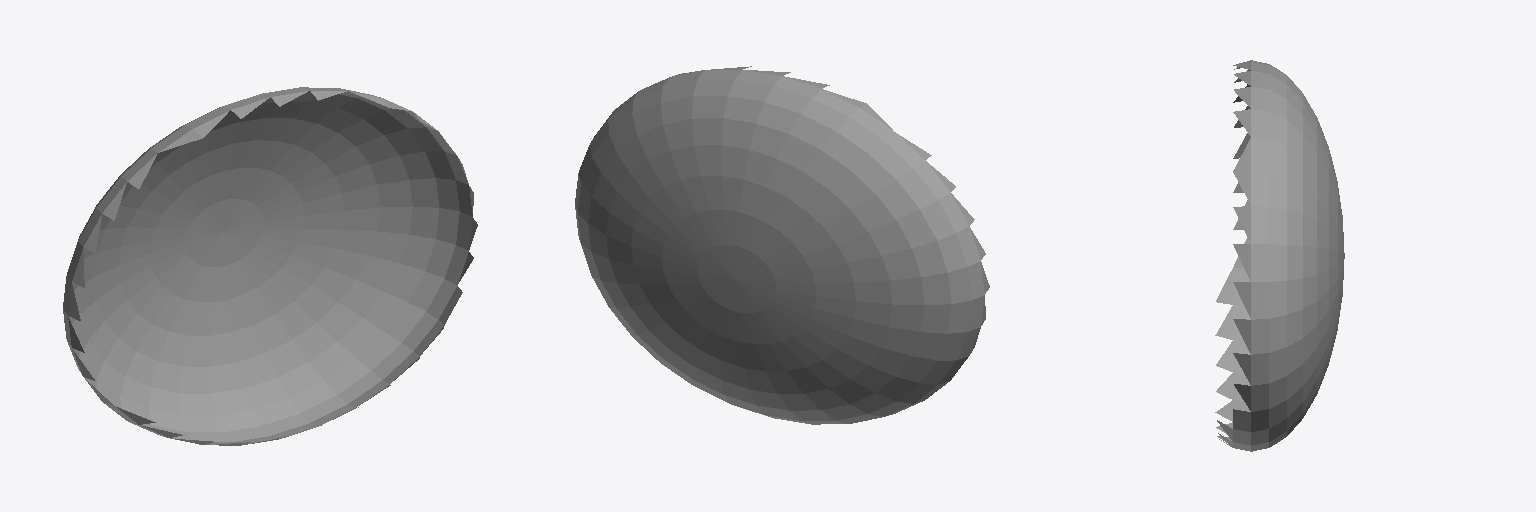
The model's file is kinetic_barrier2.obj.
3 views of the same model, side by side, from view 1: azimuth 30°, elevation 25°; view 2: azimuth 150°, elevation 25°; view 3: azimuth 270°, elevation 25° (orthographic).
Parts seen in each view (by area): view 1: Sphere_Sphere_None.001; view 2: Sphere_Sphere_None.001; view 3: Sphere_Sphere_None.001.
Boxes of the visible parts, x1,y1,x2,y2 form: Sphere_Sphere_None.001: [63, 87, 477, 445]; Sphere_Sphere_None.001: [575, 66, 989, 424]; Sphere_Sphere_None.001: [1215, 60, 1344, 451].
Bounding box in the file's own units: 500 × 400 × 138.